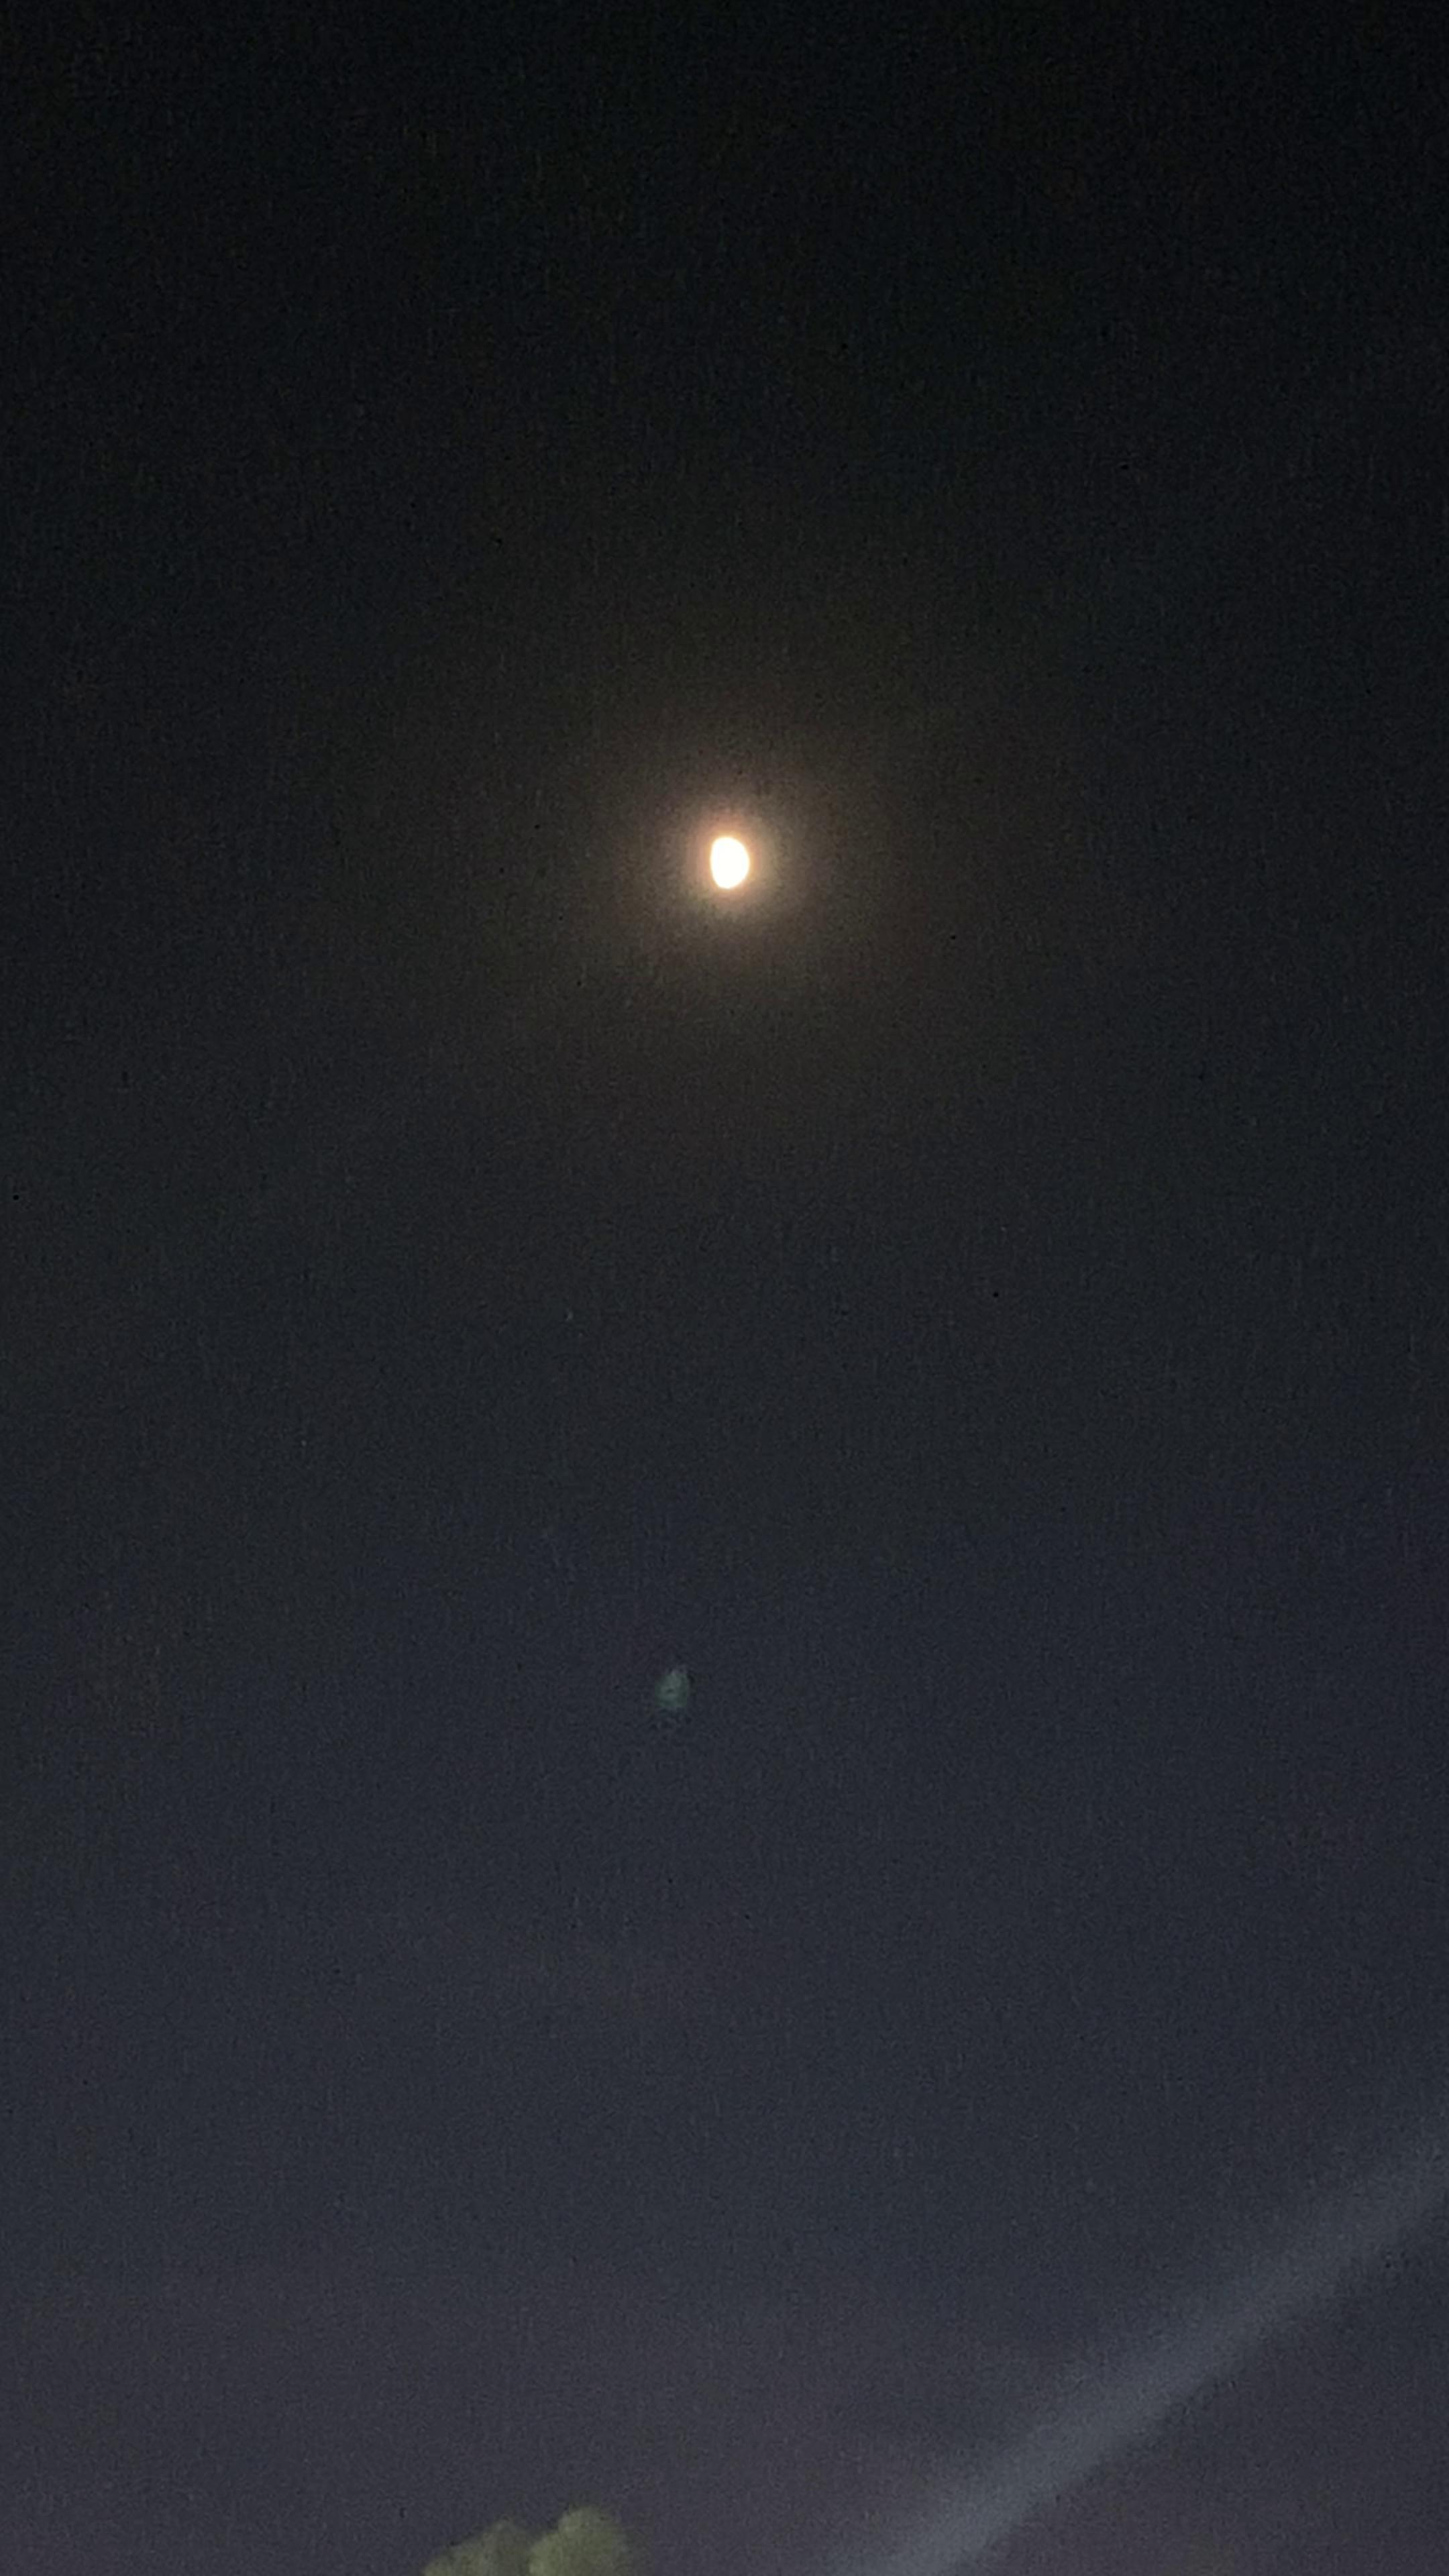moon: (674, 805, 791, 932)
